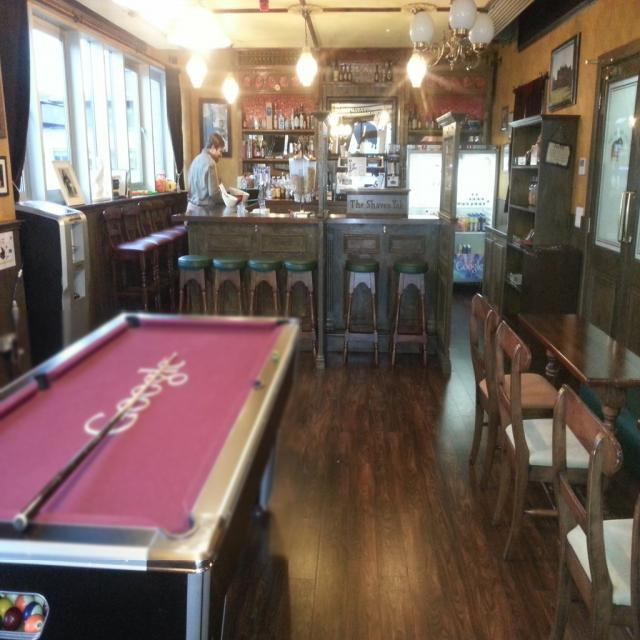Billiard table: (0, 310, 302, 560)
